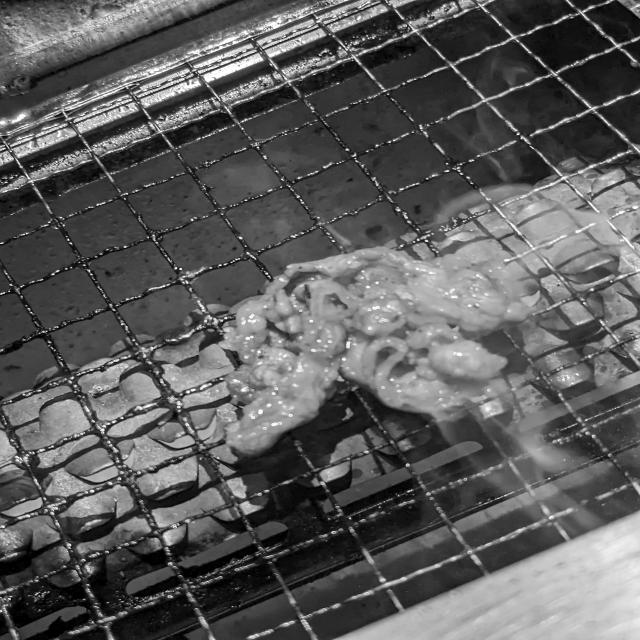OK cooked beef,: (206, 241, 530, 479)
